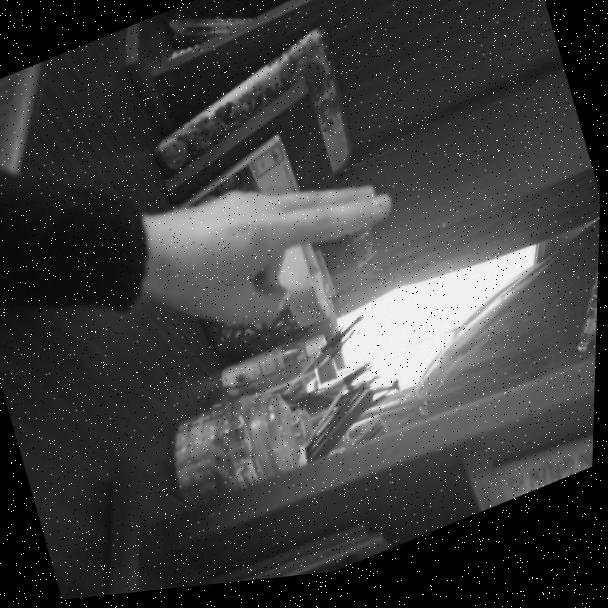two: (72, 75, 443, 429)
